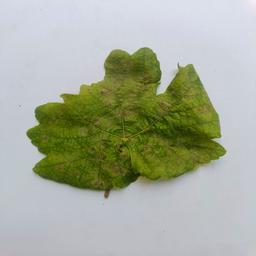Powdery-Mildew: (96, 78, 130, 113), (94, 138, 128, 172), (160, 143, 197, 174), (152, 93, 178, 116), (197, 101, 212, 116)
